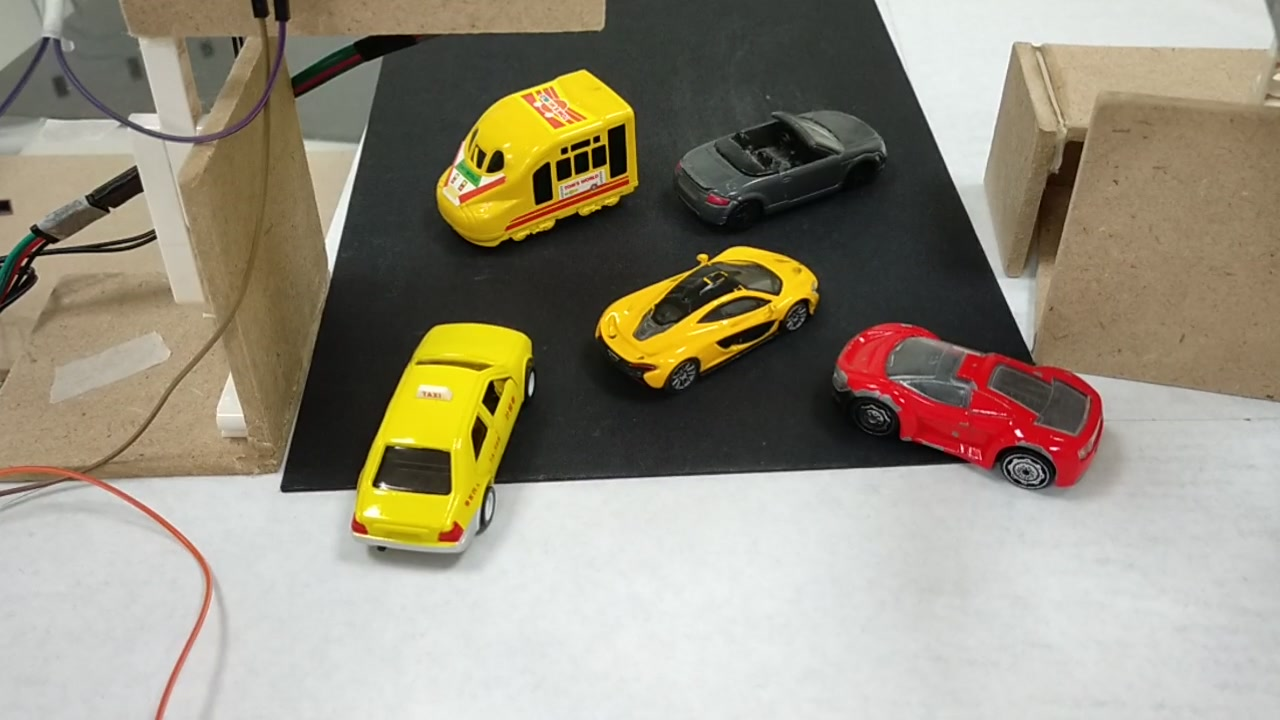car: (836, 320, 1107, 488), (348, 329, 524, 559), (595, 264, 830, 392), (663, 115, 886, 231)
